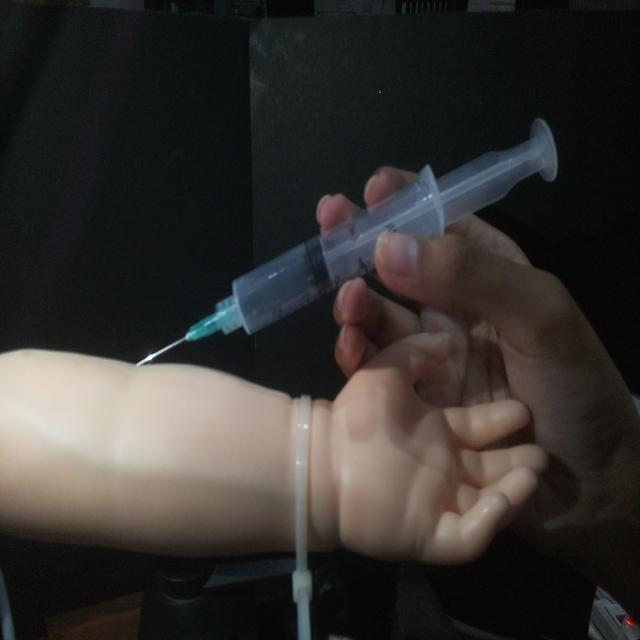23deg: (132, 112, 562, 369)
